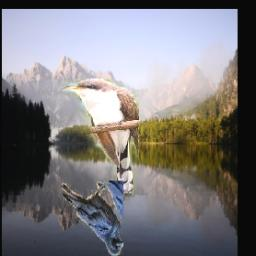Crow: (59, 181, 123, 256)
Cuckoo: (64, 78, 140, 195)
